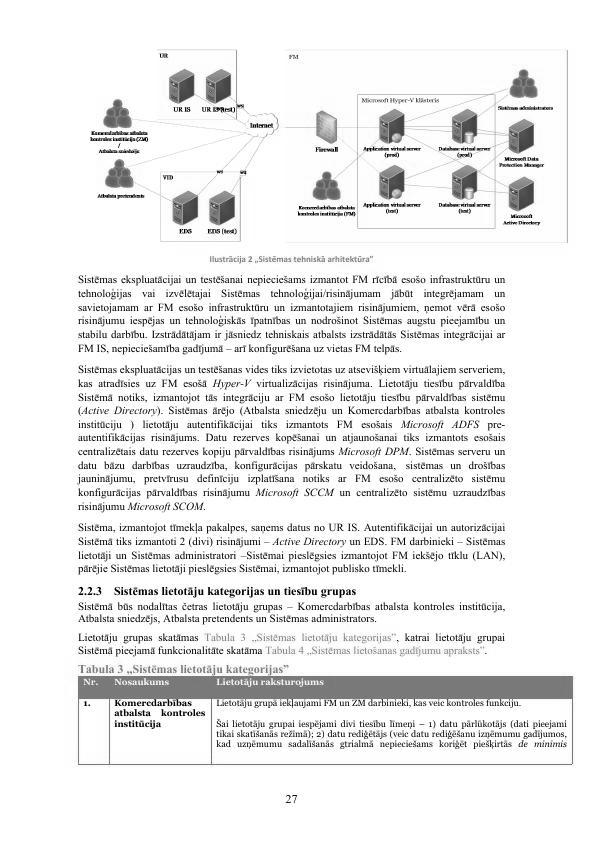table: (71, 674, 579, 772)
text: (77, 272, 513, 515), (74, 582, 522, 660), (76, 521, 510, 576), (75, 660, 293, 674), (205, 251, 382, 266)
